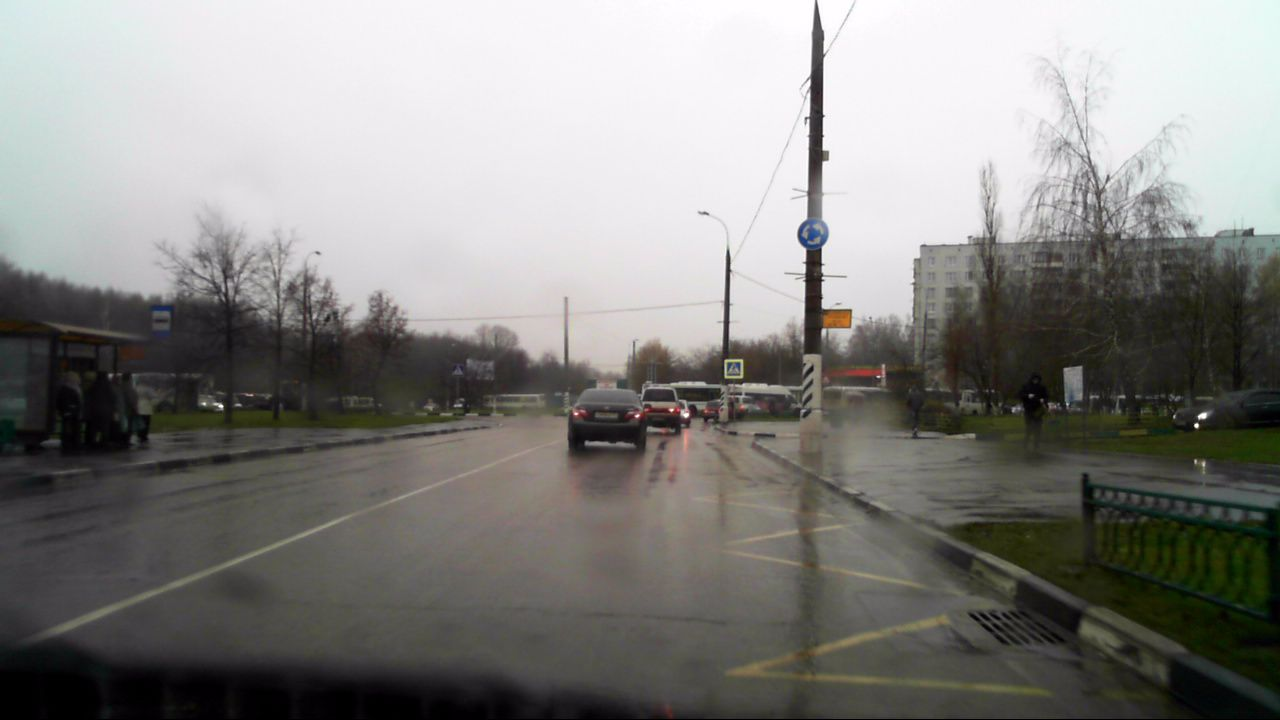Round-About: (796, 218, 829, 248)
